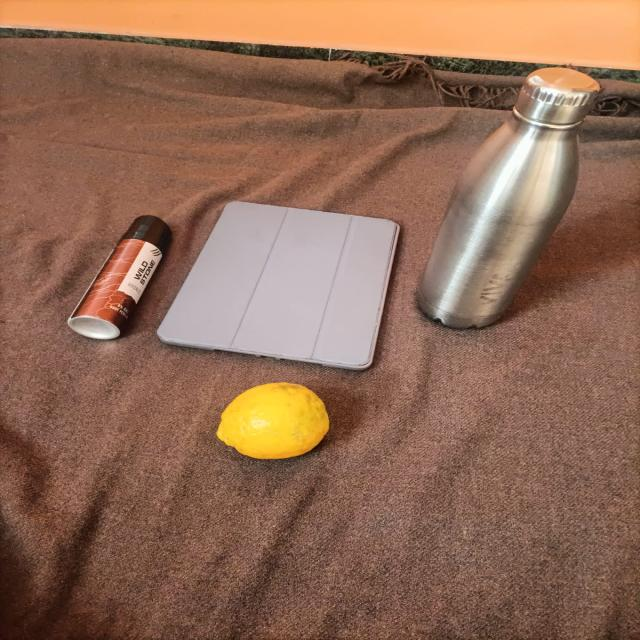bottle: (406, 35, 610, 355)
orange: (184, 372, 367, 483)
spray: (45, 187, 184, 356)
tablet: (149, 133, 412, 378)
